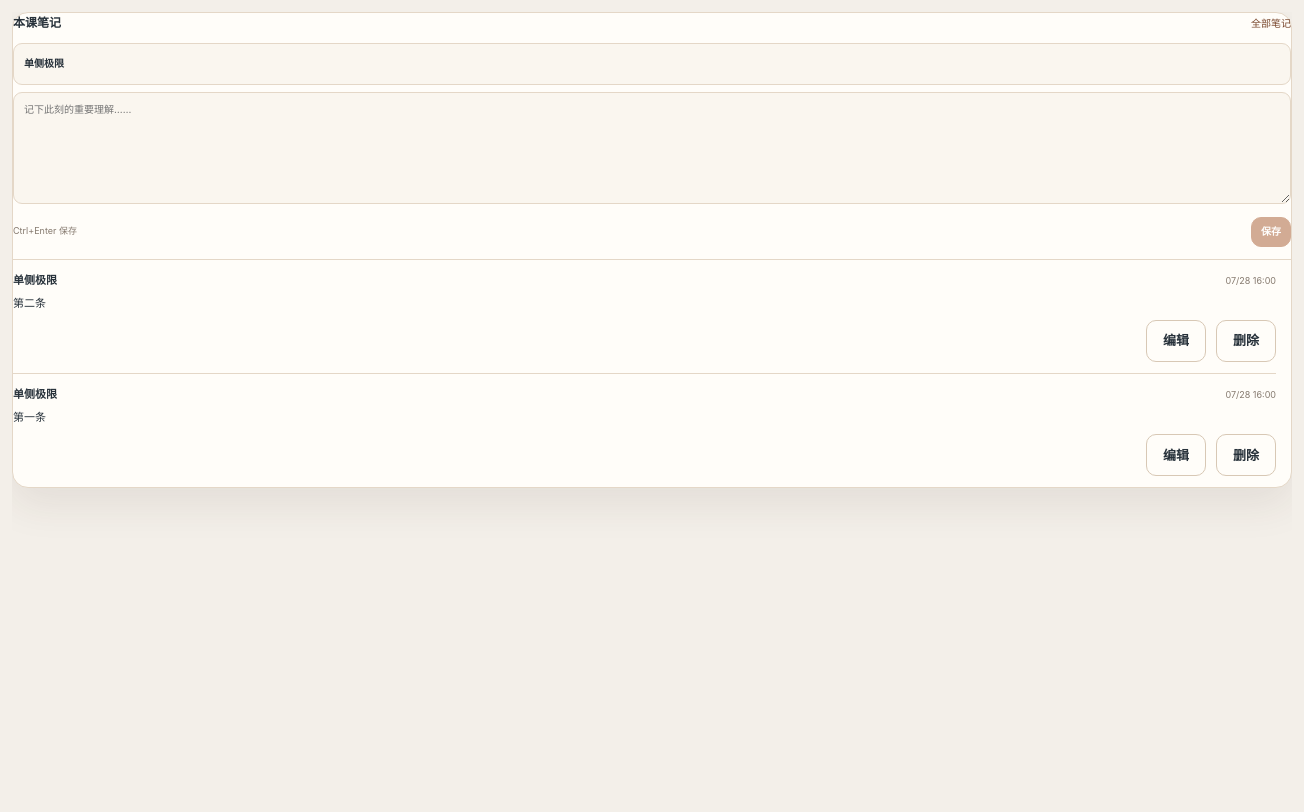
it: LessonNotesPanel › edits and deletes one saved note without changing the others
The width and height of the screenshot is (1304, 812).
Expected: the text "第一条" is shown, [13, 410, 46, 424]
Click the 2nd button "编辑": (1176, 456) [1146, 434, 1206, 476]
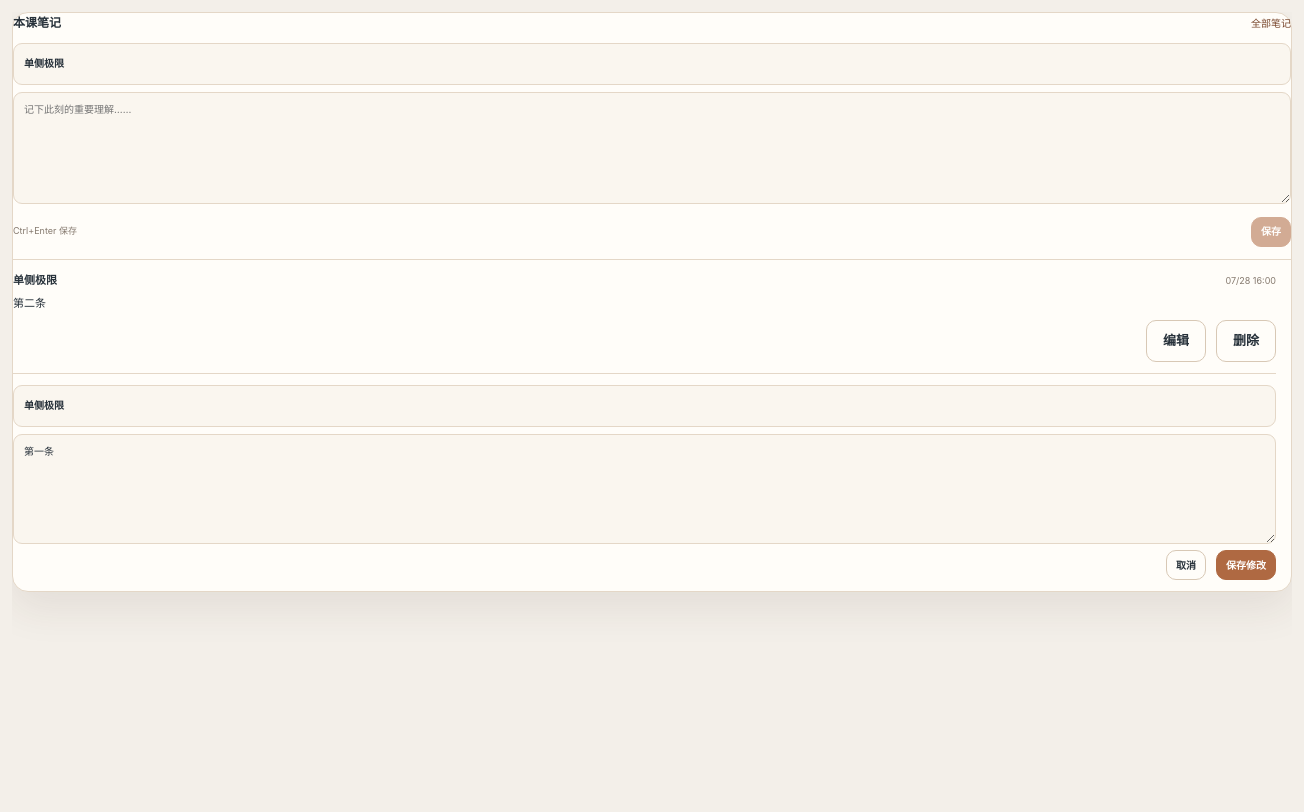
Replace the text in the text box named "编辑笔记" with "第一条（修订）": (644, 489) [13, 434, 1276, 544]
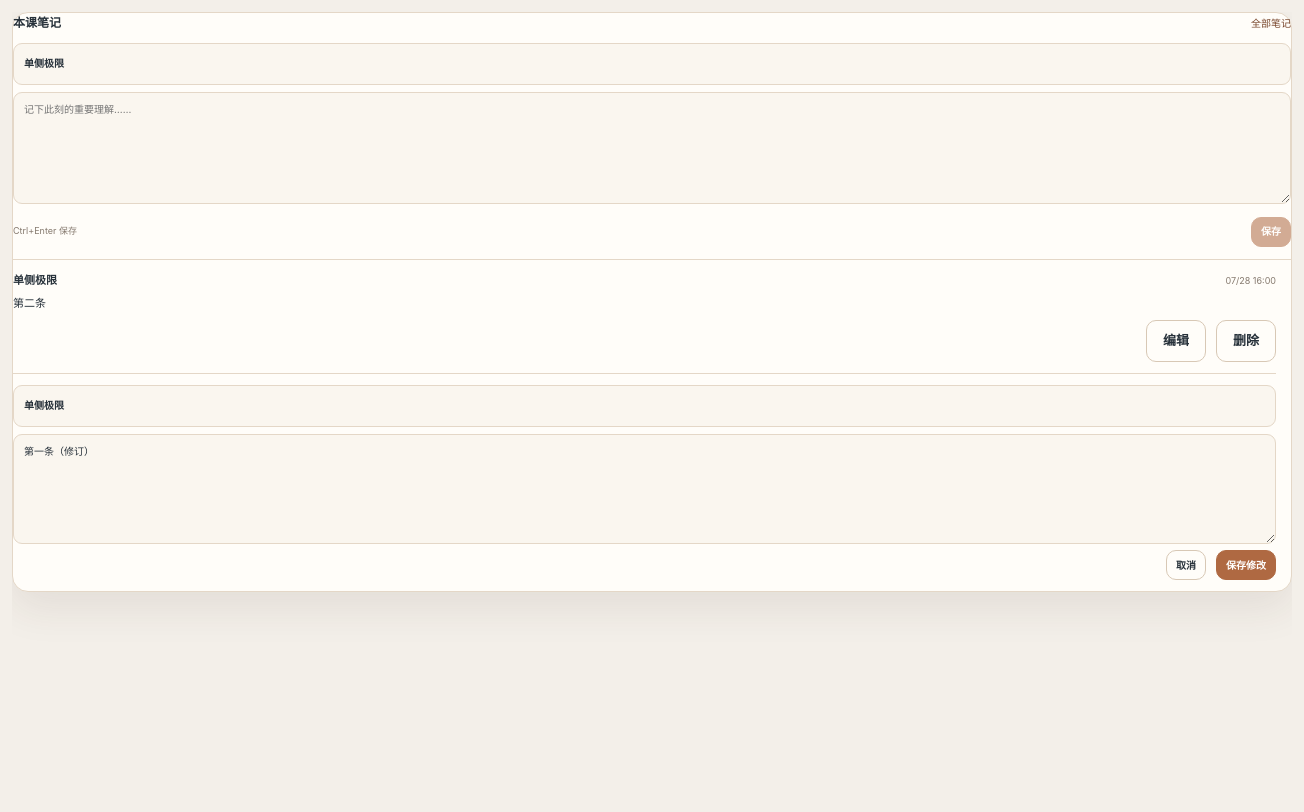
Click the button "保存修改": (1246, 565) [1216, 550, 1276, 580]
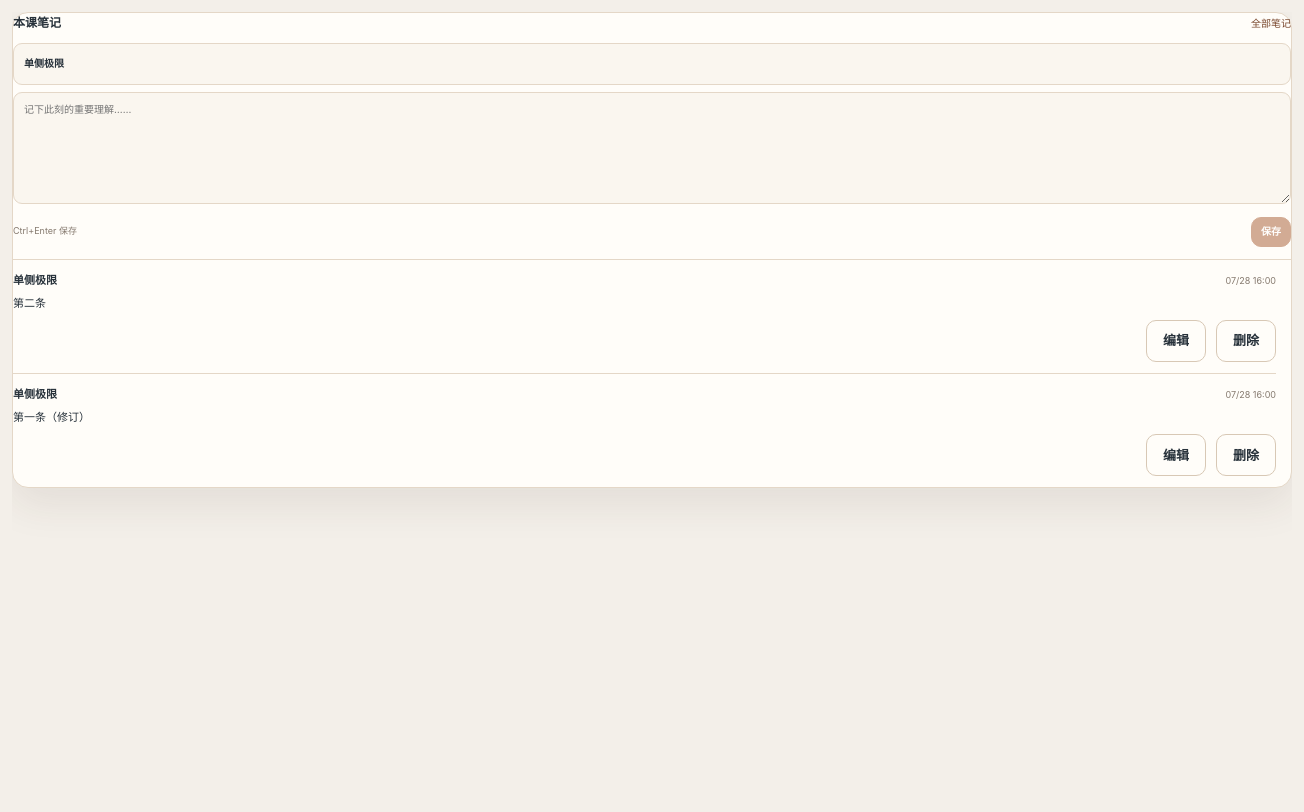
Expected: the text "第二条" is shown, [13, 296, 46, 310]
Result: the text box labelled "编辑笔记" is gone
Result: the text "第一条（修订）" is shown at [13, 410, 90, 424]
Click the 1st button "删除": (1246, 341) [1216, 320, 1276, 362]
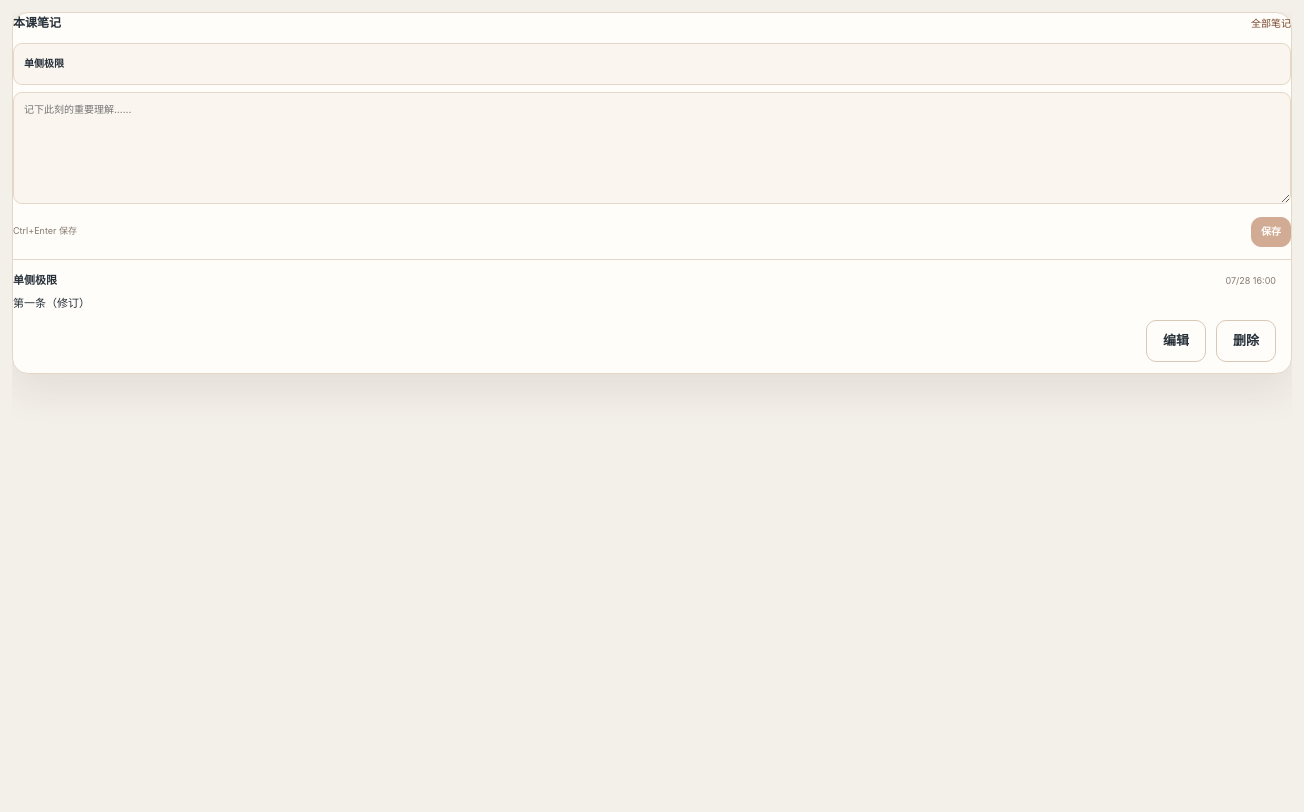
Result: the text "第一条（修订）" is shown at [13, 296, 90, 310]
Result: the text "第二条" is gone
